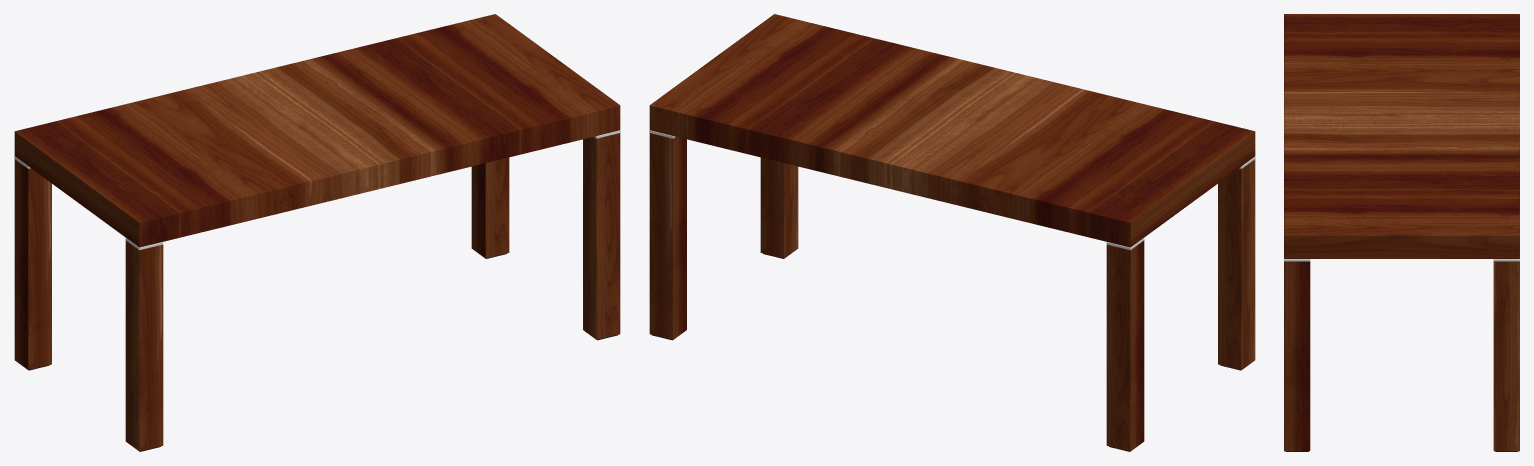
The picture shows the model from 3 angles, left to right: view 1: azimuth 30°, elevation 25°; view 2: azimuth 150°, elevation 25°; view 3: azimuth 270°, elevation 25°; orthographic projection. The views are drawn at different scales.
Visible parts, largest first — view 1: table_top, gambe; view 2: table_top, gambe; view 3: table_top, gambe.
Boxes of the visible parts, bbox=[...] form: table_top: bbox=[14, 14, 620, 247]; gambe: bbox=[14, 133, 620, 451]; table_top: bbox=[649, 14, 1255, 247]; gambe: bbox=[649, 133, 1255, 451]; table_top: bbox=[1284, 14, 1519, 258]; gambe: bbox=[1284, 261, 1519, 451].
Bounding box in the file's own units: 2 × 0.915 × 0.9.
4 materials, 4 textured.
